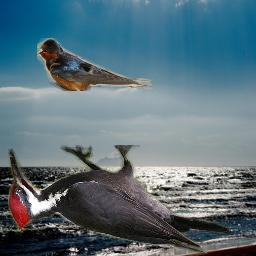Swallow: (37, 38, 153, 91)
Woodpecker: (8, 145, 231, 254)
